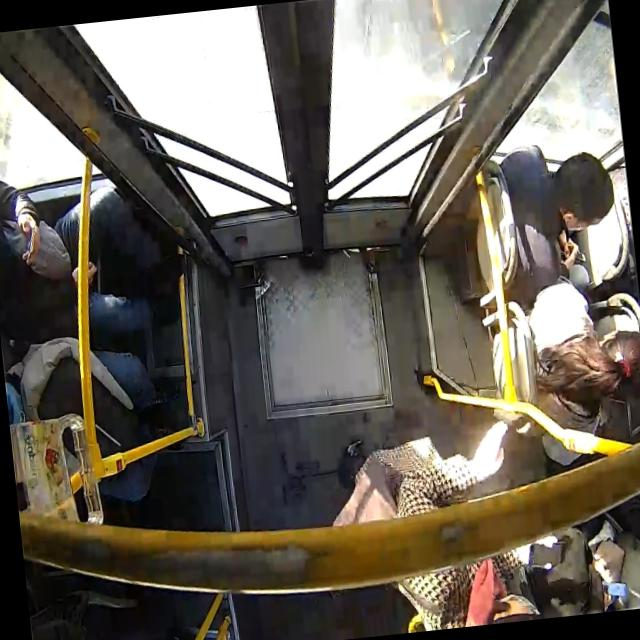bus-door: (0, 0, 603, 274)
